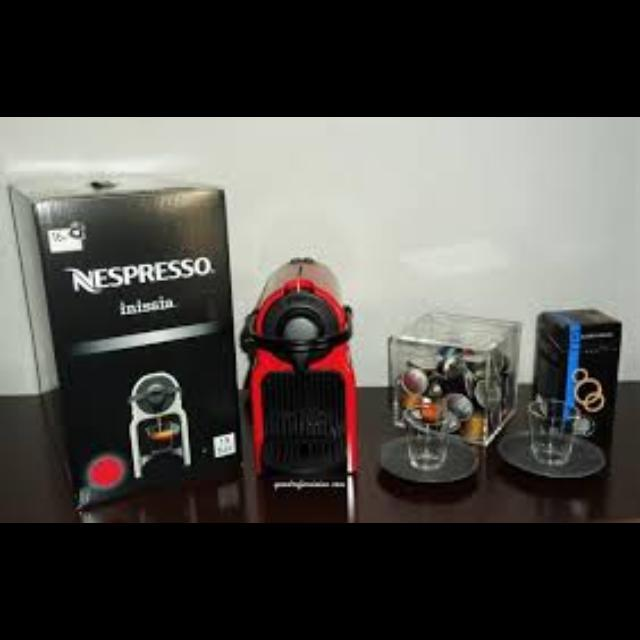Coffee-Machine: (240, 255, 366, 497), (128, 366, 195, 478)
